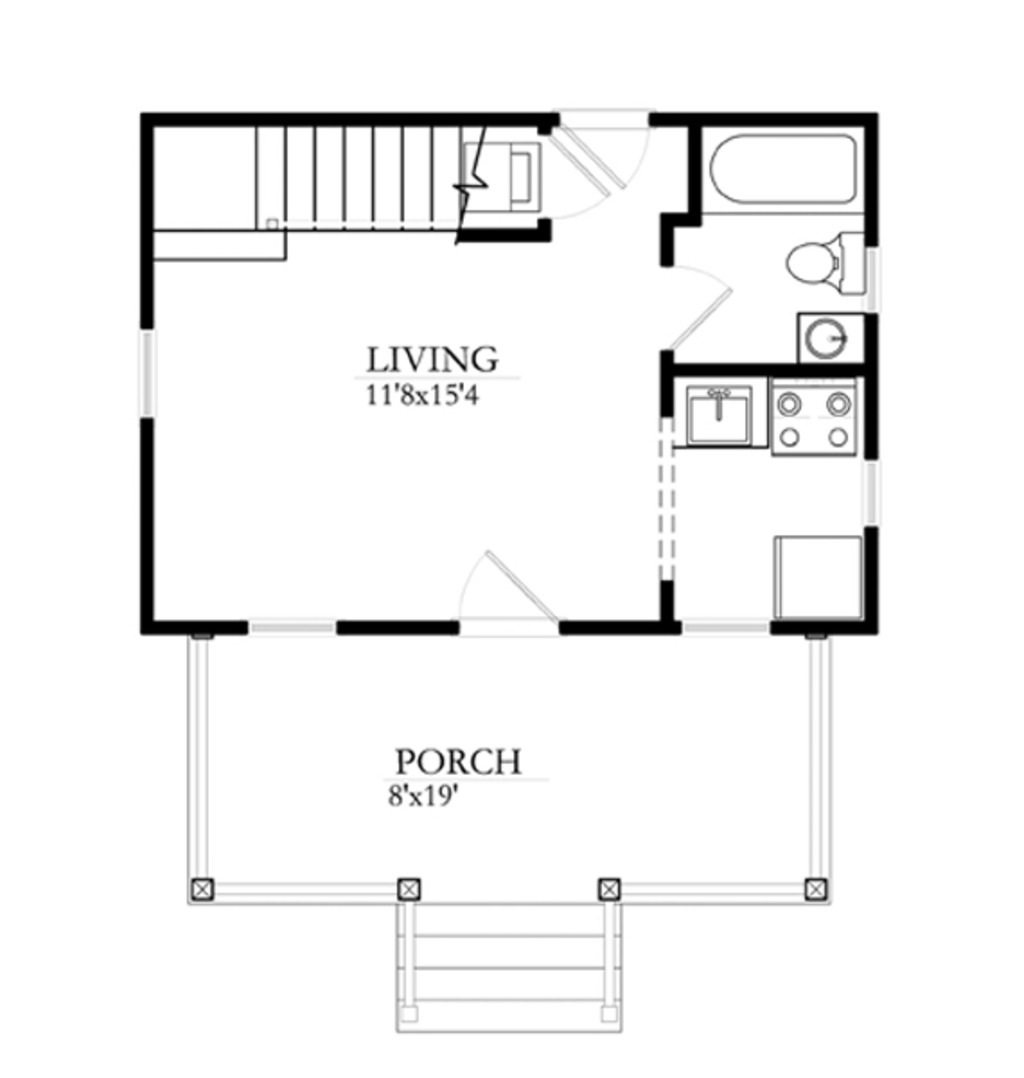door: (441, 546, 559, 637), (654, 261, 736, 358), (562, 117, 657, 189)
large_sink: (775, 224, 865, 300)
small_sink: (789, 308, 872, 362)
stairs: (146, 117, 496, 247), (396, 893, 624, 1037)
tub: (700, 122, 871, 219)
windows: (675, 616, 772, 641), (135, 332, 159, 426), (244, 618, 341, 639)
